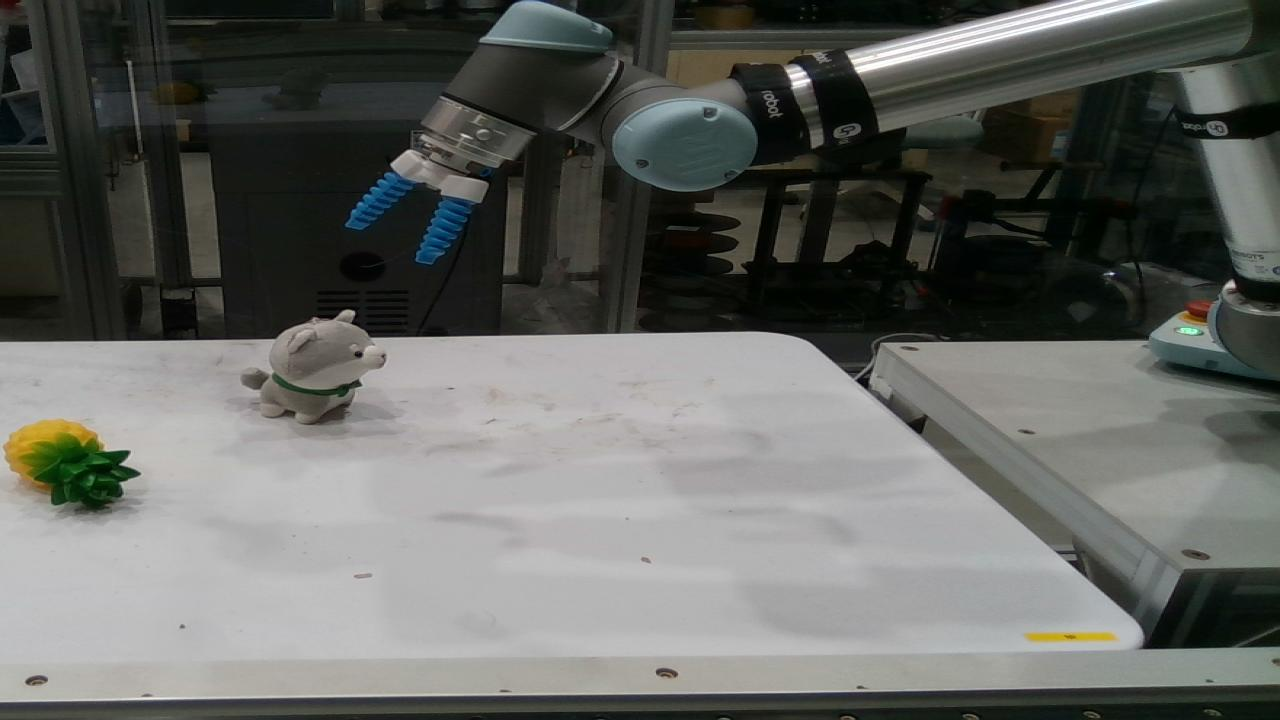UR5: (387, 0, 1270, 374)
gripper_left: (345, 172, 417, 229)
gripper_right: (418, 197, 470, 264)
target: (258, 312, 382, 422), (6, 420, 136, 507)
